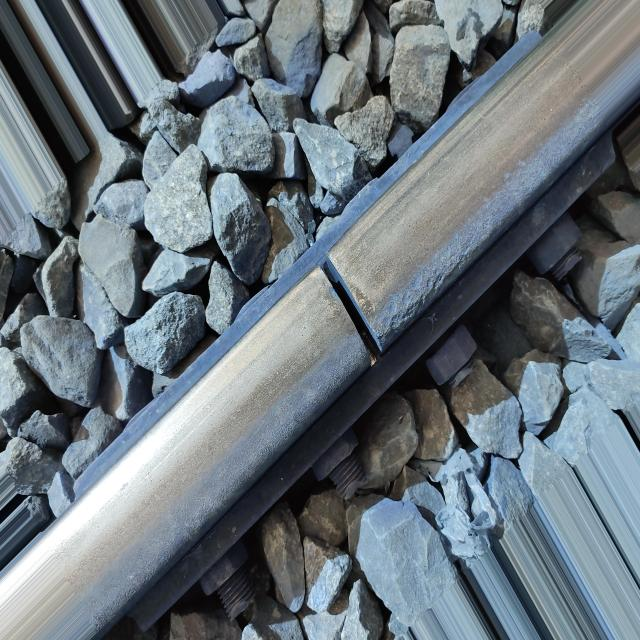crack: (294, 240, 422, 383)
